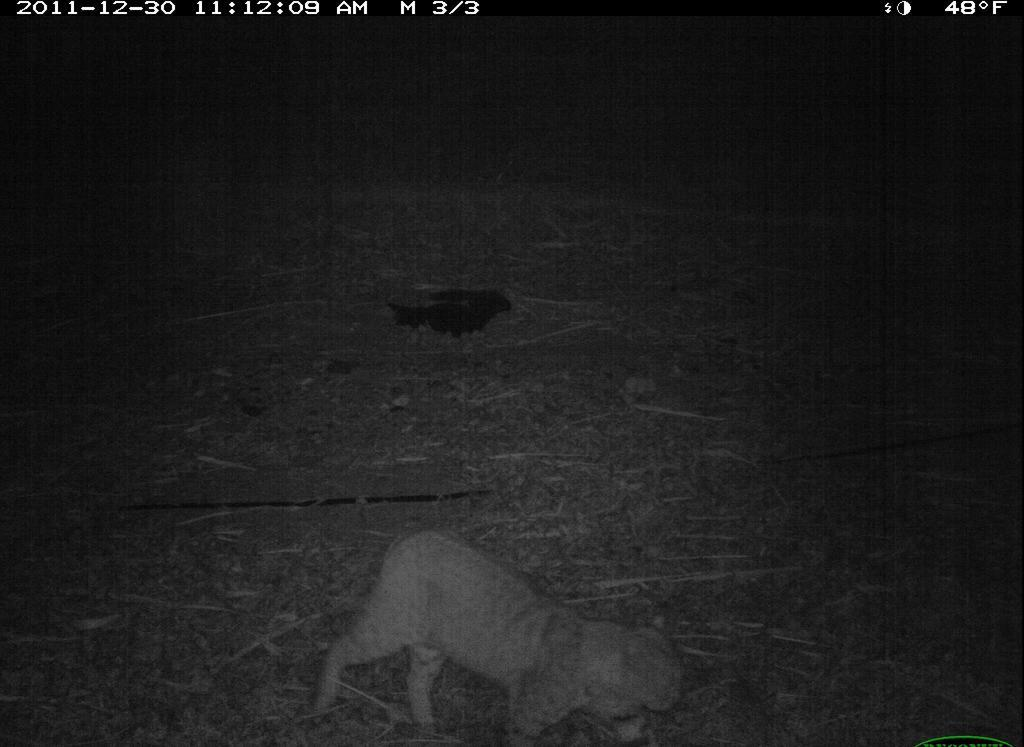bobcat: (310, 518, 711, 747)
